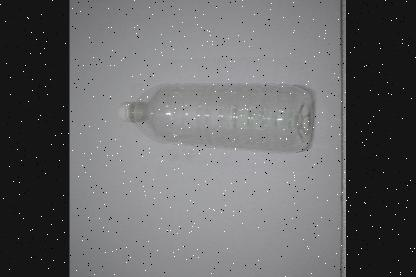Plastic Bottle: (118, 82, 313, 152)
